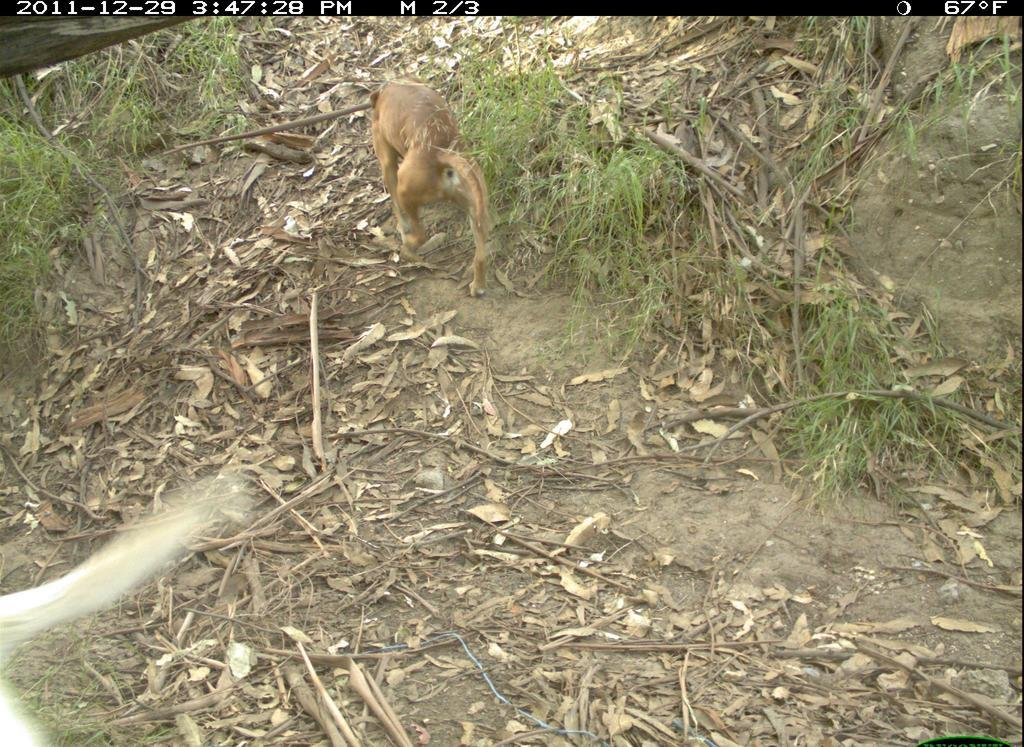dog: (2, 460, 265, 745), (358, 72, 506, 304)
